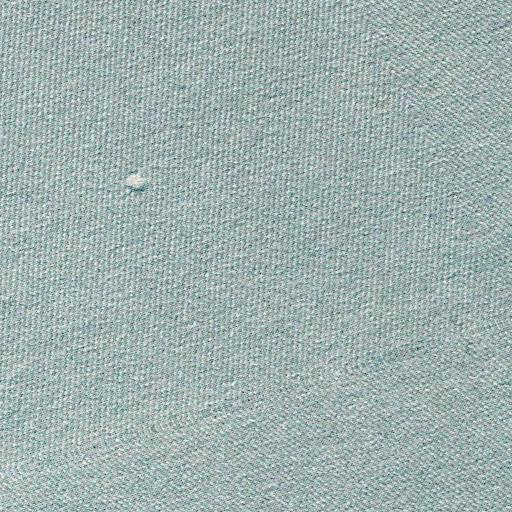knot: (110, 164, 159, 205)
